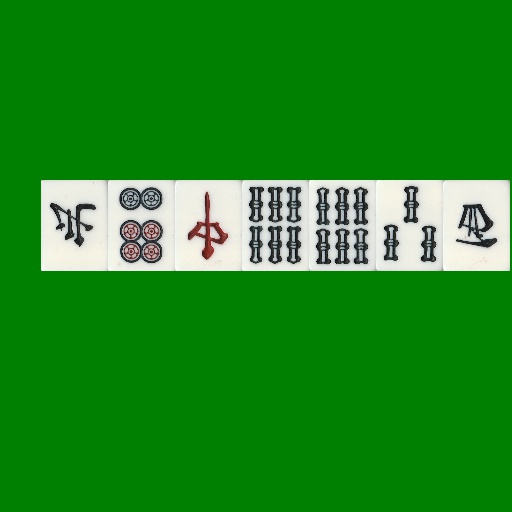3s: (376, 180, 443, 271)
6p: (108, 180, 175, 271)
6s: (242, 180, 309, 271), (309, 180, 376, 271)
north: (41, 180, 108, 271)
tyun: (175, 180, 242, 271)
west: (443, 180, 510, 271)
